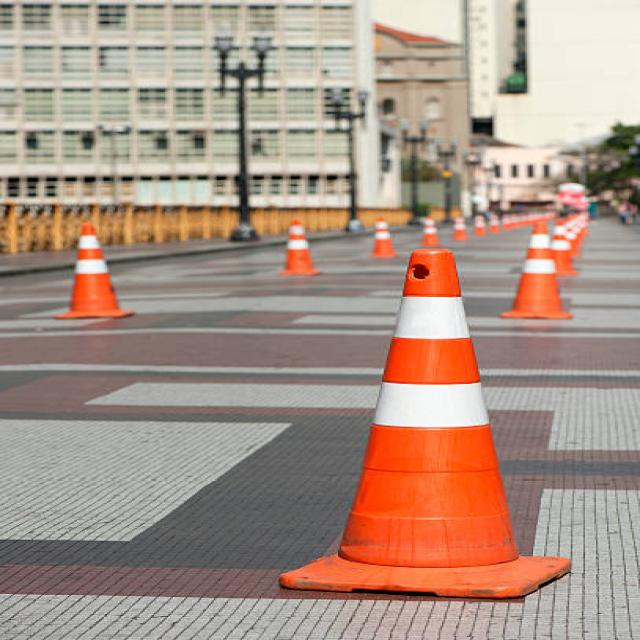Traffic Cone: (273, 240, 592, 612), (34, 211, 149, 329), (503, 213, 582, 333), (249, 209, 346, 289)
